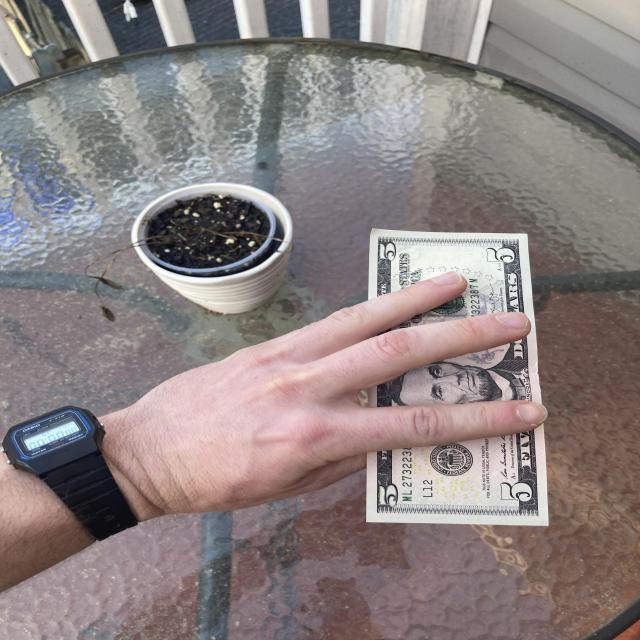five: (365, 229, 551, 526)
